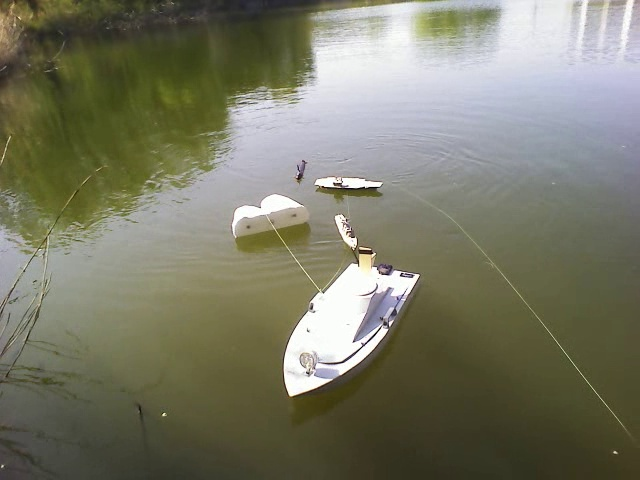aircraft_carrier: (316, 173, 386, 194)
boat: (282, 260, 421, 403)
iceberg: (230, 189, 310, 236)
submarine: (296, 159, 308, 183)
warship: (336, 211, 359, 250)
